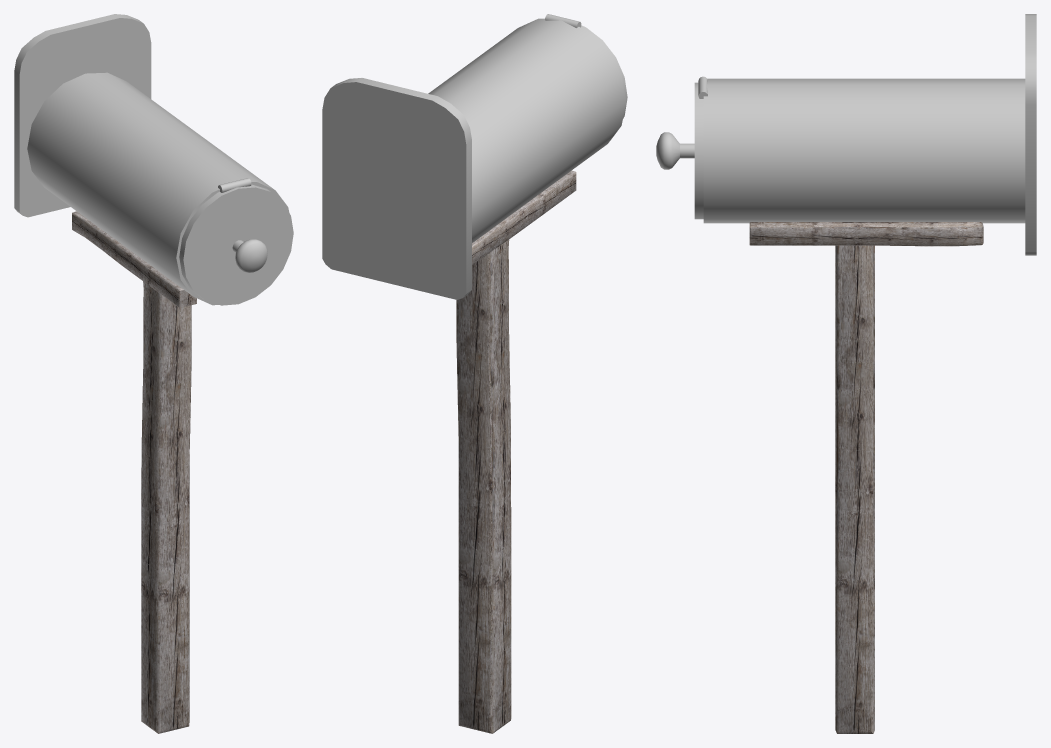
File: post-box.fbx
3 renders of one model, left to right at view 1: azimuth 30°, elevation 25°; view 2: azimuth 150°, elevation 25°; view 3: azimuth 270°, elevation 25°, orthographic. The views are drawn at different scales.
Visible parts, largest first — view 1: Mesh; view 2: Mesh; view 3: Mesh.
Part boxes in pixels (left/top/right/bottom): Mesh: left=14, top=14, right=293, bottom=733; Mesh: left=322, top=14, right=627, bottom=733; Mesh: left=656, top=14, right=1036, bottom=733.
Size of the model in its own units: 86 by 399 by 199.
